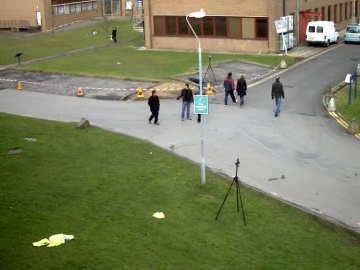person: (177, 83, 194, 120), (145, 89, 161, 125), (145, 89, 160, 124)
